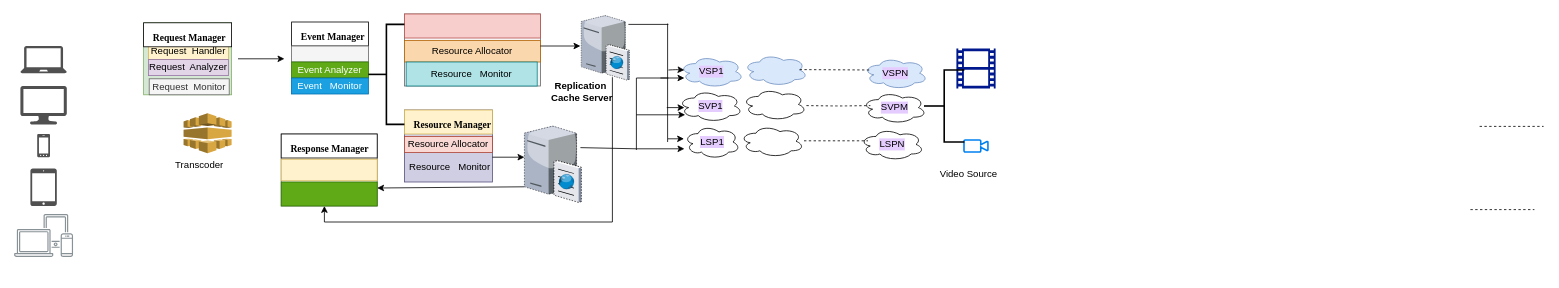
The diagram is 1559 pixels wide and 288 high, and some of its shapes have lost their labels. Each missing label, with the centre of its shape:
"Event Handler" belongs at (x=329, y=53).
"LSP2" belongs at (x=771, y=140).
"Replication Resource Manager" belongs at (x=472, y=25).
"Response Analyzer" belongs at (x=328, y=193).
"Response Handler" belongs at (x=328, y=169).
"SVP2" belongs at (x=774, y=104).
"User Devices" belongs at (x=43, y=235).
"VSP2" belongs at (x=775, y=69).
